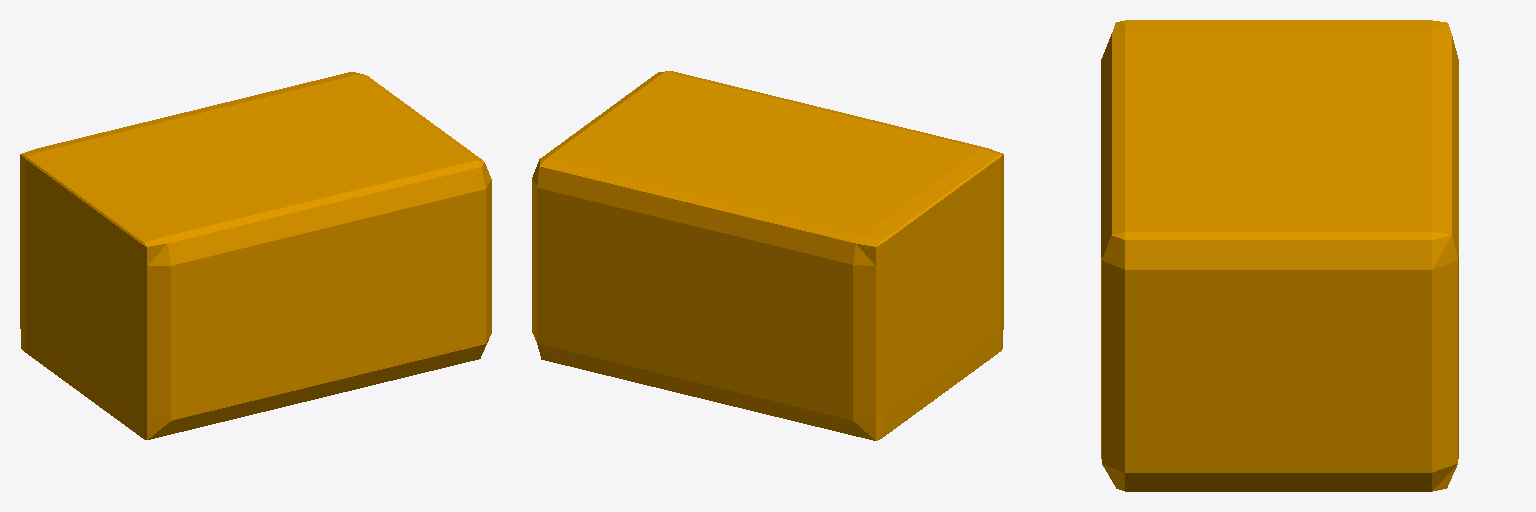
The robot description file, URDF, robot "cylinder_box_61":
<?xml version="1.0" encoding="utf-8"?>  <robot name="cylinder_box_61">   <link name="cylinder_box_61">     <visual>       <geometry>         <mesh filename="../meshes/box/box_61.stl" scale="1 1 1"/>       </geometry>     </visual>     <collision>       <geometry>         <mesh filename="../meshes/box/box_61.stl" scale="1 1 1"/>       </geometry>     </collision>     <inertial>        <origin         xyz="0 0 0"         rpy="0 0 0" />       <mass value="0.3026994921639196"/>       <origin rpy="0 0 0" xyz="0 0 0"/>       <inertia ixx="0.00016521085887224633" ixy="1.7307138589968875e-07" ixz="-1.3868105734210903e-07" iyy="0.0002855557224132363" iyz="-7.81178544635181e-09" izz="0.0003215748433654205"/>     </inertial>   </link>  </robot>

--- Facts derived from the render (not from the file) ---
3 views of the same robot in one strip: view 1: azimuth 30°, elevation 25°; view 2: azimuth 150°, elevation 25°; view 3: azimuth 270°, elevation 25° (orthographic).
Model cylinder_box_61 with 1 links and 0 joints (none), rooted at cylinder_box_61, posed all joints at 0.
Links seen in each view (by area): view 1: cylinder_box_61; view 2: cylinder_box_61; view 3: cylinder_box_61.
Boxes of the visible links, box(x1,y1,x2,y2) form: cylinder_box_61: box(20, 72, 491, 439); cylinder_box_61: box(532, 71, 1003, 440); cylinder_box_61: box(1101, 20, 1458, 491).
Bounding box of the posed robot: 0.0943 × 0.0639 × 0.0511 m (x, y, z).
Meshes: 1 distinct files referenced, 1 mesh visuals loaded (1 binary STL).